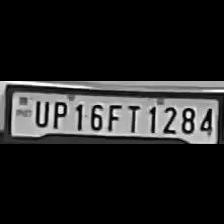1: (141, 103, 158, 133), (70, 99, 86, 129)
2: (157, 102, 177, 134)
4: (196, 103, 214, 135)
6: (86, 100, 104, 130)
8: (177, 102, 195, 134)
F: (104, 100, 122, 130)
P: (48, 97, 68, 128)
T: (123, 102, 143, 132)
U: (31, 96, 49, 128)
